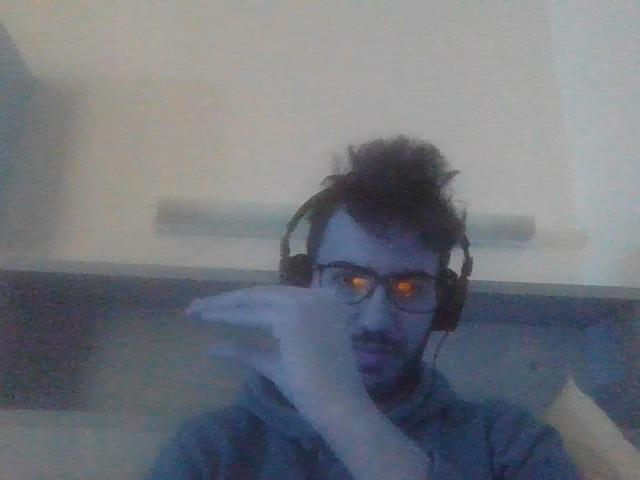no: (186, 280, 358, 398)
